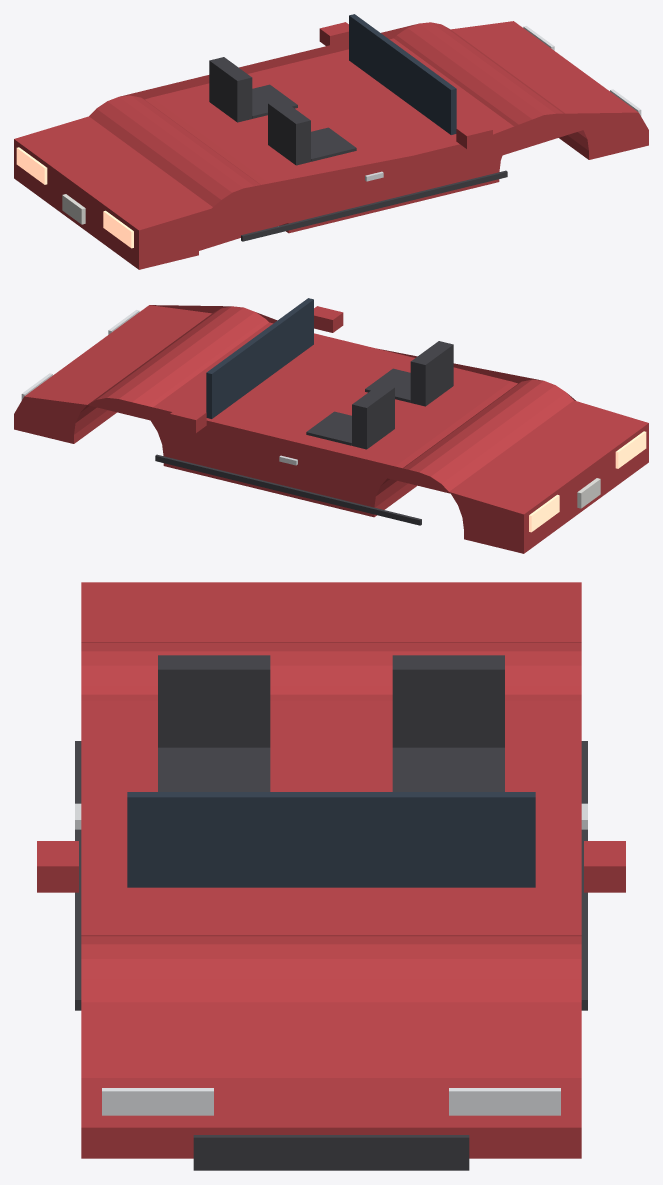
Rendered from SM_Veh_Sports_Open.fbx.
3 renders of one model, top to bottom at view 1: azimuth 30°, elevation 25°; view 2: azimuth 150°, elevation 25°; view 3: azimuth 270°, elevation 25°, orthographic. The views are drawn at different scales.
Visible parts, largest first — view 1: SM_Veh_Sports_Open; view 2: SM_Veh_Sports_Open; view 3: SM_Veh_Sports_Open.
Boxes of the visible parts, x1,y1,x2,y2 form: SM_Veh_Sports_Open: [14, 14, 648, 269]; SM_Veh_Sports_Open: [14, 298, 648, 553]; SM_Veh_Sports_Open: [37, 582, 625, 1170].
Size of the model in its own units: 456 by 225 by 81.99.
